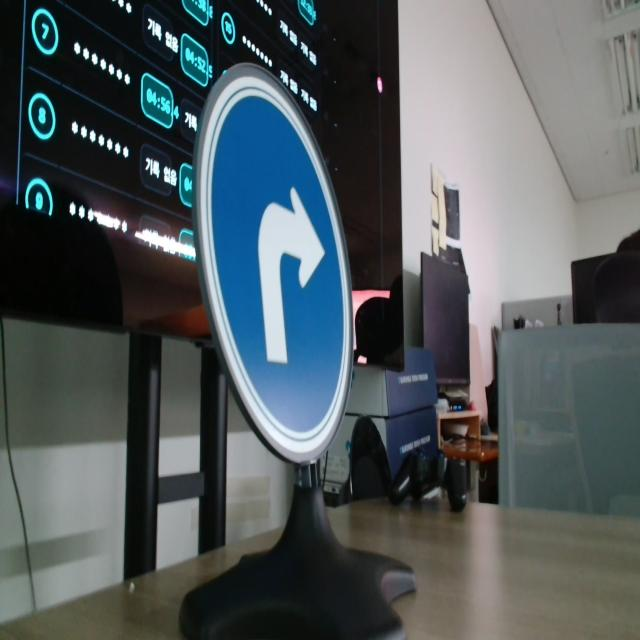right_dierection: (187, 63, 393, 478)
